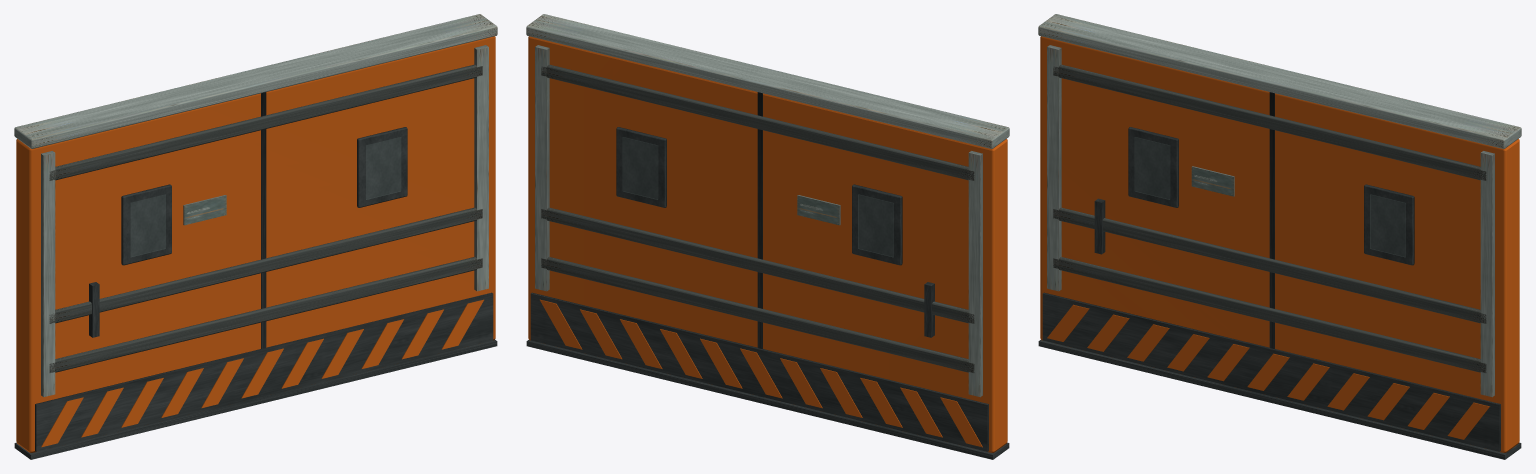
Rendered from bulkhead_door_wide.glb.
3 views of the same model, side by side, from view 1: azimuth 30°, elevation 25°; view 2: azimuth 150°, elevation 25°; view 3: azimuth 330°, elevation 25° (orthographic).
Parts seen in each view (by area): view 1: BulkheadWide; view 2: BulkheadWide; view 3: BulkheadWide.
Boxes of the visible parts, <box> form: BulkheadWide: <box>14,14,497,459</box>; BulkheadWide: <box>526,14,1009,459</box>; BulkheadWide: <box>1038,14,1521,459</box>.
Bounding box in the file's own units: 3.96 × 2.6 × 0.32.
3 materials, 1 textured.
